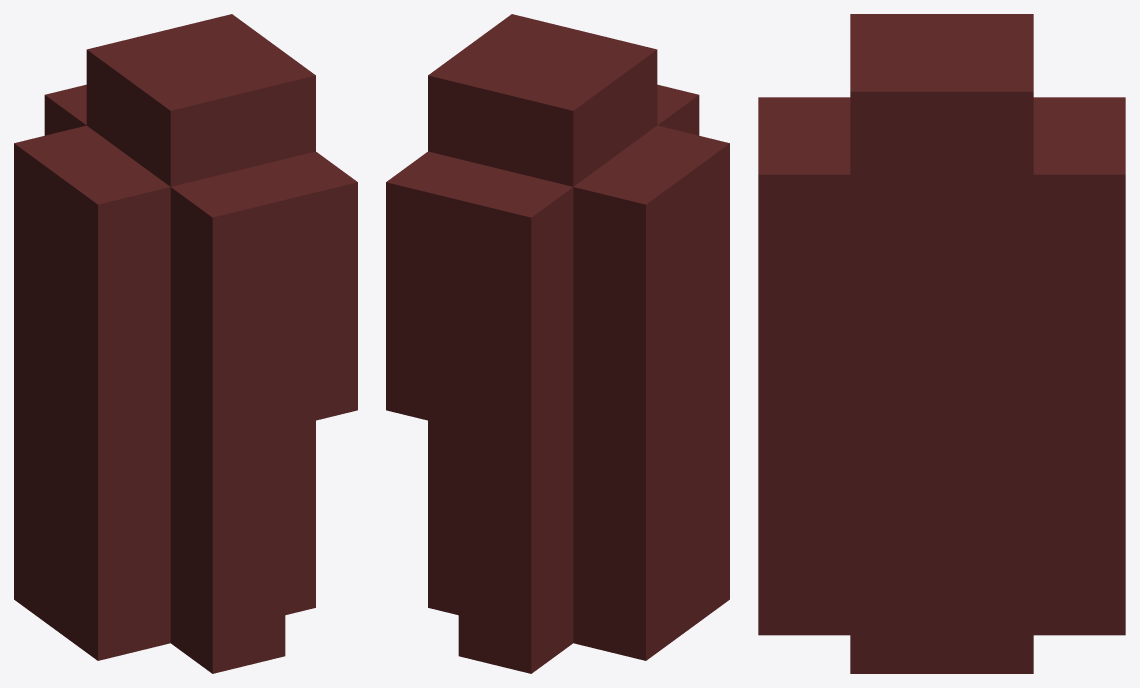
Rendered from char-56-arm_up_lgt_med_1_color.obj.
3 renders of one model, left to right at view 1: azimuth 30°, elevation 25°; view 2: azimuth 150°, elevation 25°; view 3: azimuth 270°, elevation 25°, orthographic. The views are drawn at different scales.
Visible parts, largest first — view 1: arm_up_lgt_med_1_color; view 2: arm_up_lgt_med_1_color; view 3: arm_up_lgt_med_1_color.
Boxes of the visible parts, left/top/right/bottom form: arm_up_lgt_med_1_color: left=14, top=14, right=357, bottom=673; arm_up_lgt_med_1_color: left=386, top=14, right=729, bottom=673; arm_up_lgt_med_1_color: left=758, top=14, right=1125, bottom=673.
Size of the model in its own units: 0.3 by 0.7 by 0.4.
Materials: 1 (1 with a texture image).
